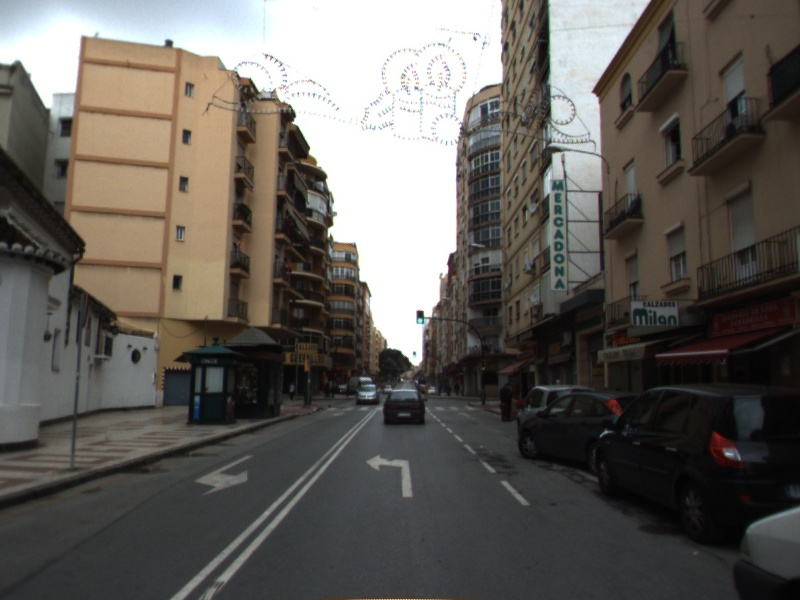LEFT: (364, 453, 414, 499)
